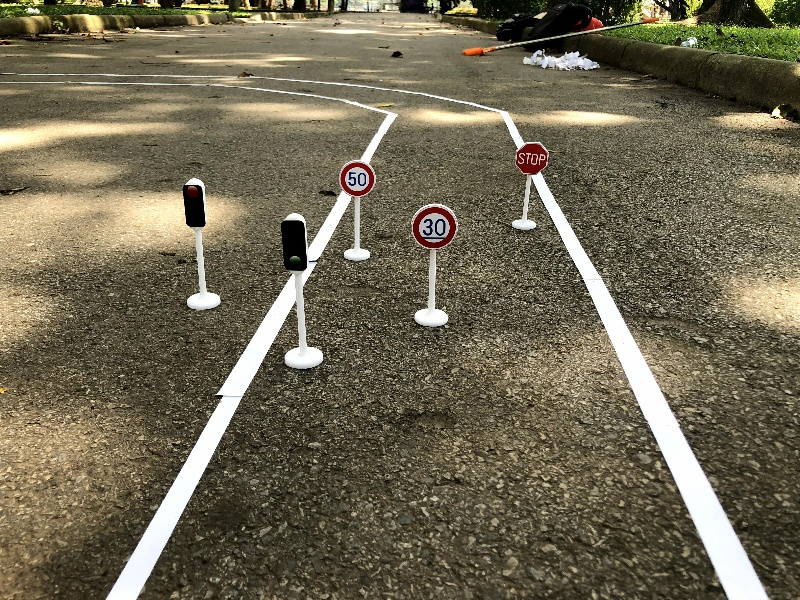Green: (280, 211, 327, 370)
Limit 30: (410, 201, 459, 327)
Limit 50: (338, 159, 379, 261)
Red: (181, 176, 223, 311)
Stop: (510, 140, 550, 232)
